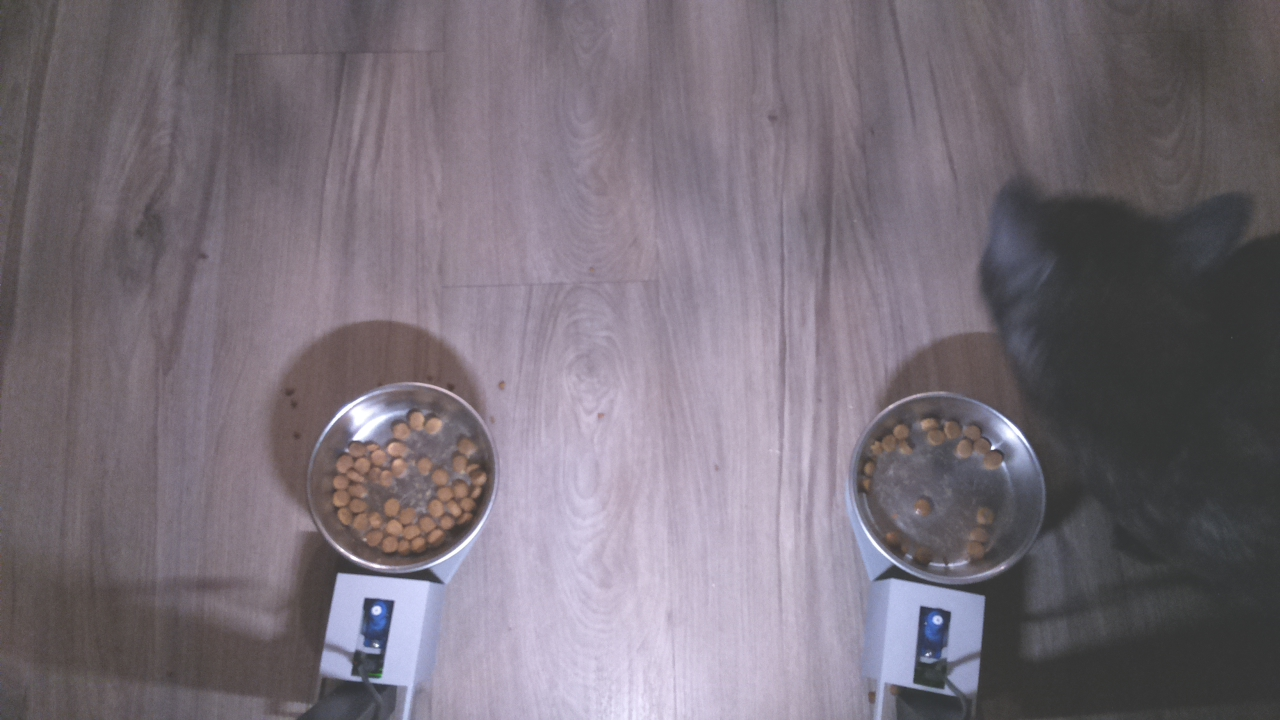open_bowl: (844, 384, 1059, 593), (299, 371, 502, 573)
saki: (966, 164, 1257, 425)
